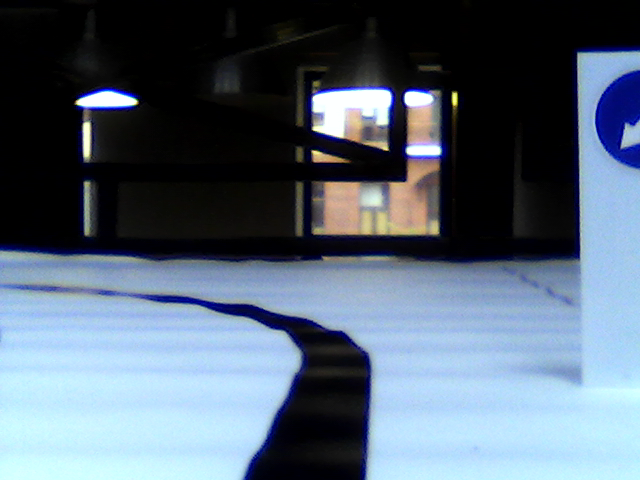prep: (591, 64, 640, 172)
